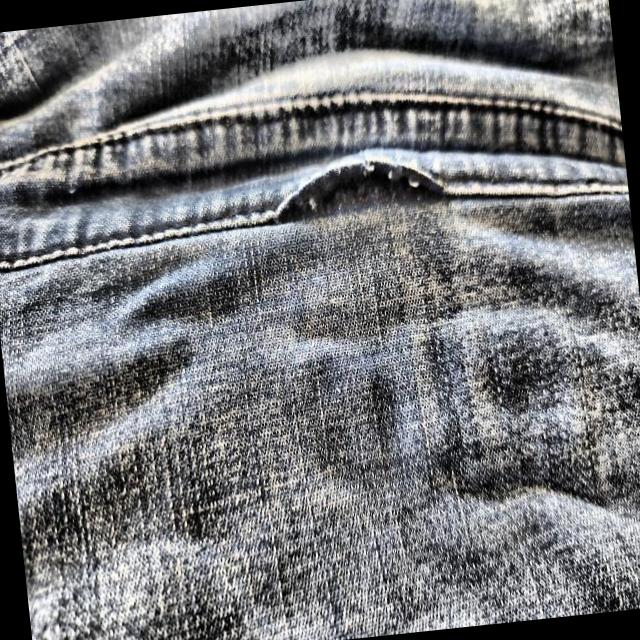gray stitch: (260, 153, 466, 247)
